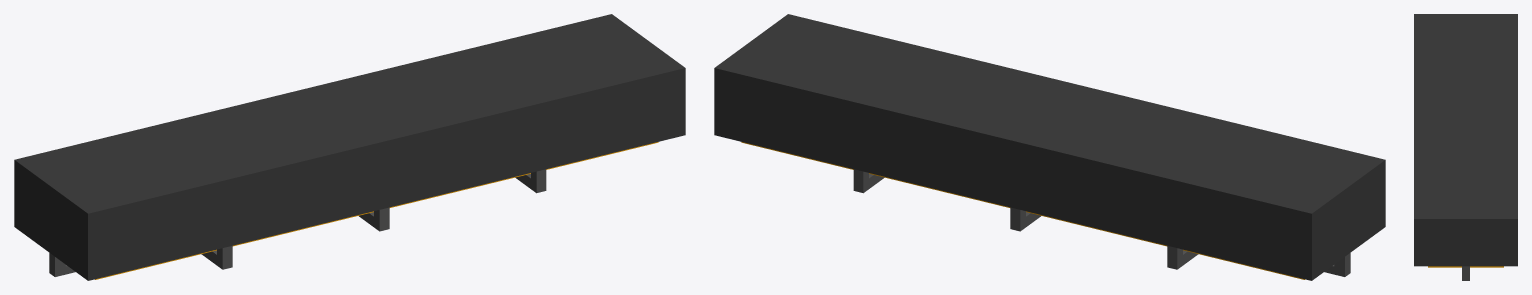
File: Light_01.fbx
3 renders of one model, left to right at view 1: azimuth 30°, elevation 25°; view 2: azimuth 150°, elevation 25°; view 3: azimuth 270°, elevation 25°, orthographic. The views are drawn at different scales.
Visible parts, largest first — view 1: Light_01; view 2: Light_01; view 3: Light_01.
Part boxes in pixels (x1,y1,x2,y2): Light_01: (14, 14, 685, 280); Light_01: (714, 14, 1385, 280); Light_01: (1414, 14, 1517, 280).
Size of the model in its own units: 96.65 by 14.09 by 20.67.
